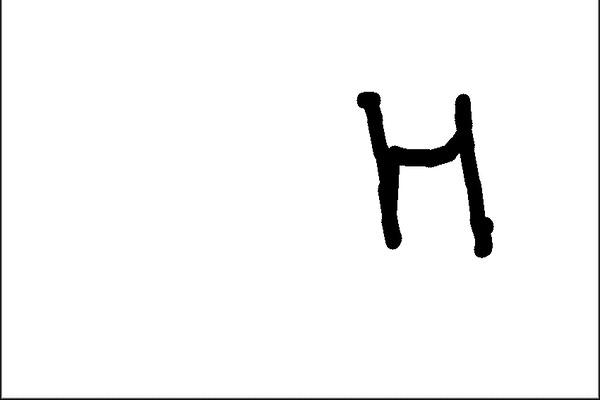H: (353, 82, 501, 260)
